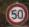Speed Limit -50-: (0, 0, 28, 26)
